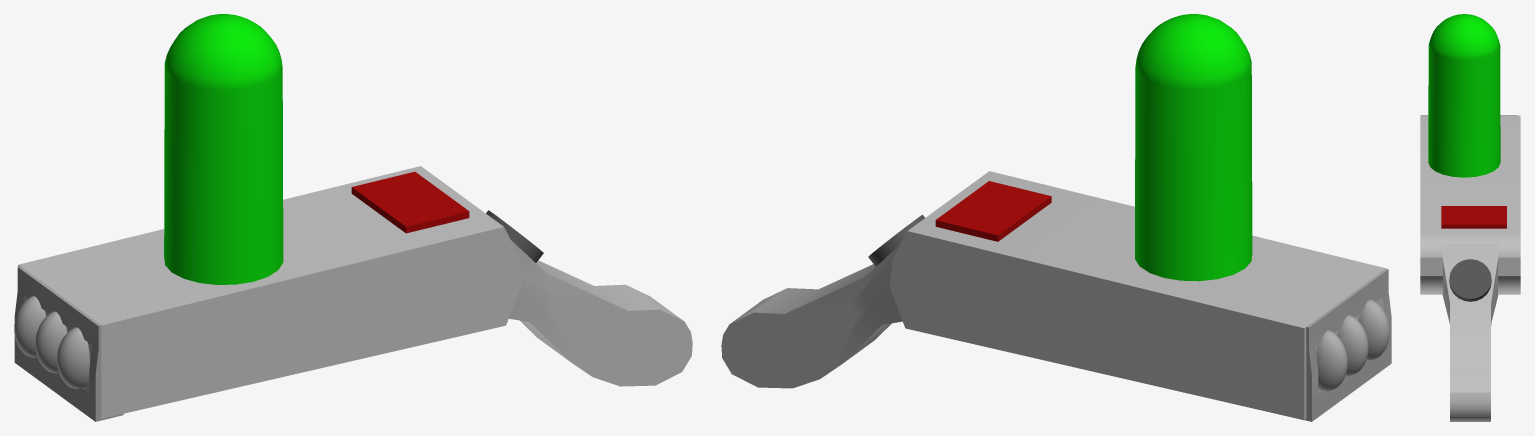
The model's file is PortalGun.fbx.
3 views of the same model, side by side, from view 1: azimuth 30°, elevation 25°; view 2: azimuth 150°, elevation 25°; view 3: azimuth 270°, elevation 25° (orthographic). The views are drawn at different scales.
Parts seen in each view (by area): view 1: pCube1, pSphere2, pCube2, pCube5, pCube3, pCylinder1; view 2: pCube1, pSphere2, pCube2, pCube5, pCube3, pCylinder1; view 3: pSphere2, pCube1, pCube2, pCube3, pCylinder1.
Part boxes in pixels (x1=…): pCube1: x1=18, y1=166, x2=521, y2=418; pSphere2: x1=164, y1=14, x2=283, y2=284; pCube2: x1=509, y1=240, x2=692, y2=386; pCube5: x1=14, y1=266, x2=123, y2=421; pCube3: x1=351, y1=171, x2=469, y2=233; pCylinder1: x1=486, y1=210, x2=543, y2=262; pCube1: x1=889, y1=171, x2=1385, y2=420; pSphere2: x1=1135, y1=14, x2=1252, y2=281; pCube2: x1=721, y1=244, x2=902, y2=388; pCube5: x1=1305, y1=268, x2=1391, y2=421; pCube3: x1=935, y1=181, x2=1051, y2=241; pCylinder1: x1=868, y1=214, x2=924, y2=266; pSphere2: x1=1428, y1=14, x2=1500, y2=177; pCube1: x1=1420, y1=115, x2=1520, y2=294; pCube2: x1=1442, y1=244, x2=1498, y2=421; pCube3: x1=1441, y1=206, x2=1506, y2=228; pCylinder1: x1=1449, y1=259, x2=1491, y2=301.
Bounding box in the file's own units: 4.47 × 3.08 × 1.01.
